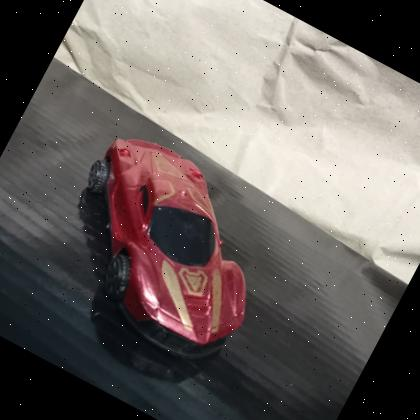Car: (22, 113, 304, 386)
